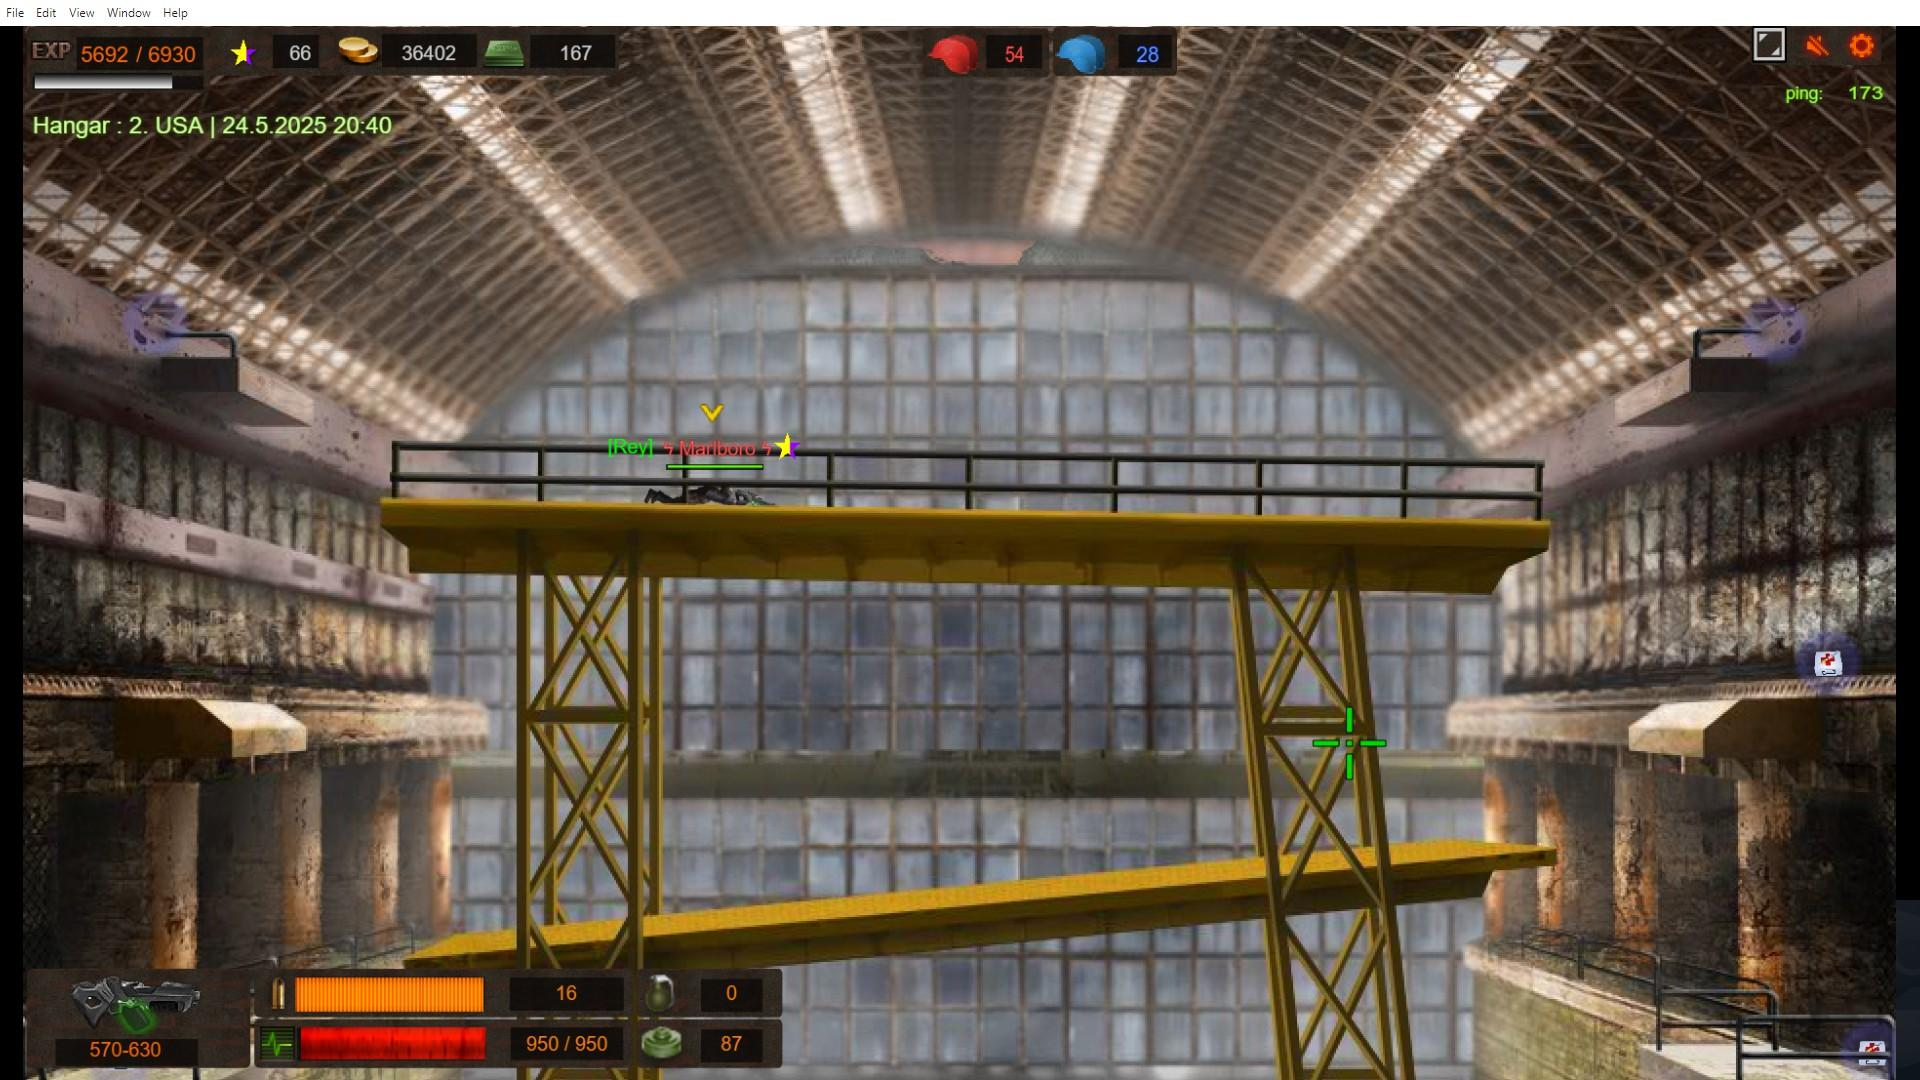enemy: (646, 484, 742, 506)
